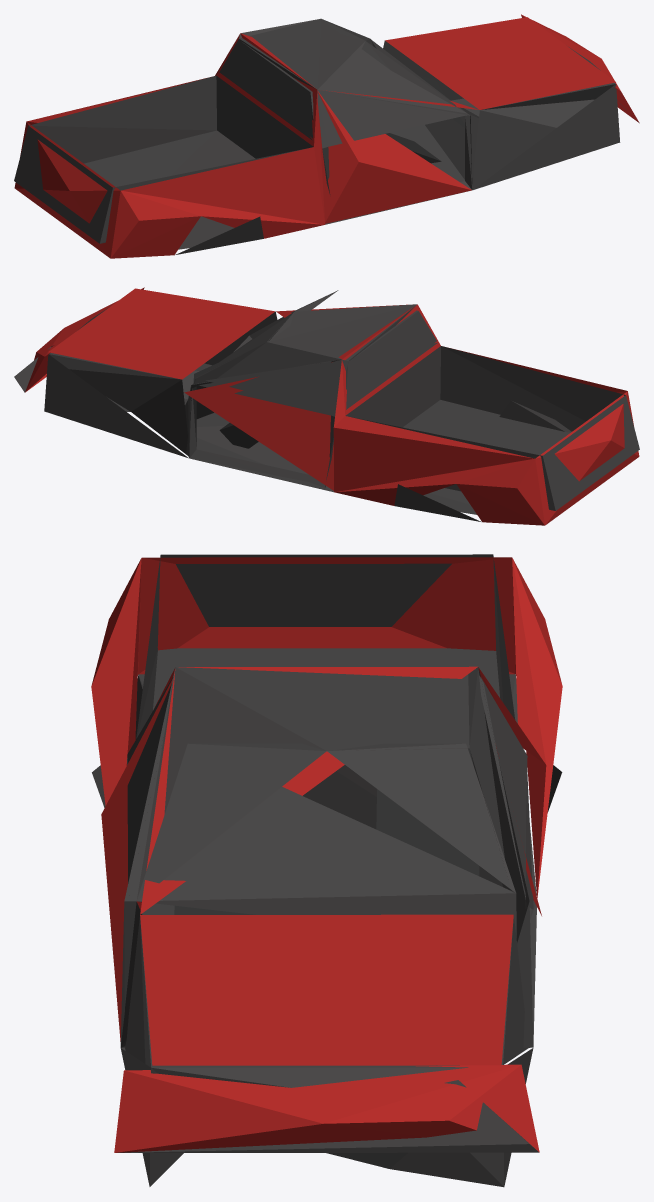
Rendered from car-sedan.lod-v1.lod2.glb.
3 renders of one model, top to bottom at view 1: azimuth 30°, elevation 25°; view 2: azimuth 150°, elevation 25°; view 3: azimuth 270°, elevation 25°, orthographic. The views are drawn at different scales.
Visible parts, largest first — view 1: DOUTRIVE78_Body_DOUTRIVE78_bodymat_0; view 2: DOUTRIVE78_Body_DOUTRIVE78_bodymat_0; view 3: DOUTRIVE78_Body_DOUTRIVE78_bodymat_0.
Boxes of the visible parts, x1,y1,x2,y2 form: DOUTRIVE78_Body_DOUTRIVE78_bodymat_0: [14, 14, 639, 258]; DOUTRIVE78_Body_DOUTRIVE78_bodymat_0: [14, 287, 639, 525]; DOUTRIVE78_Body_DOUTRIVE78_bodymat_0: [91, 554, 562, 1187].
Bounding box in the file's own units: 4.38 × 1.03 × 1.67.
